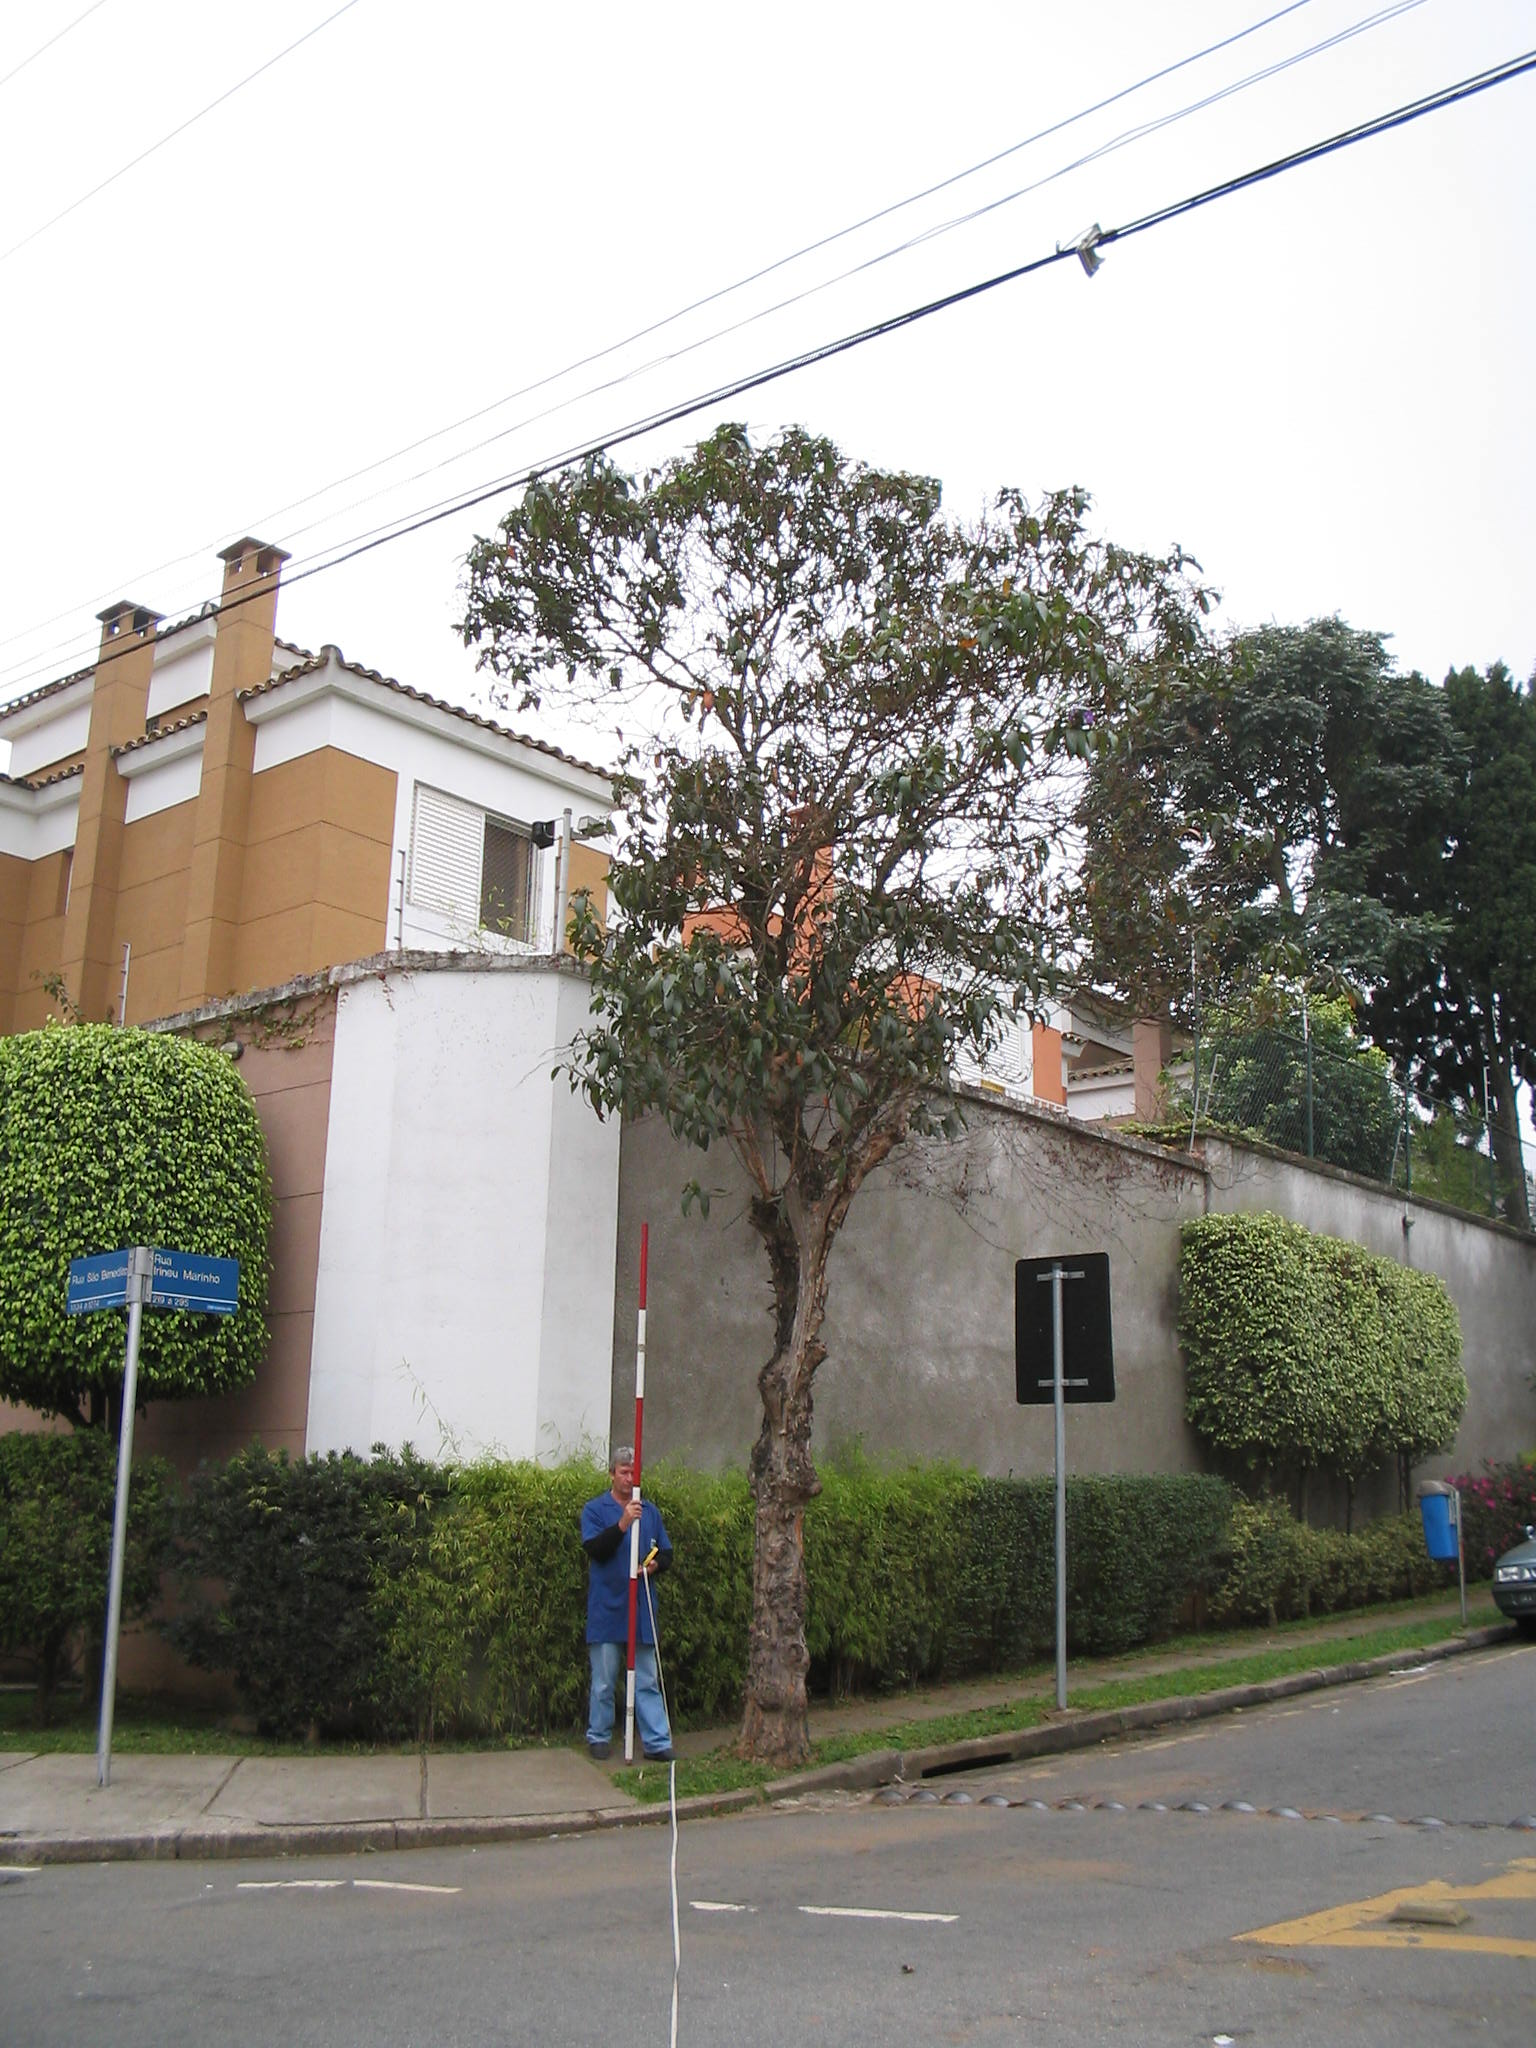crown: (474, 421, 1296, 1216)
stem: (695, 1200, 904, 1766)
stick: (581, 1216, 686, 1761)
tree: (466, 416, 1304, 1771)
